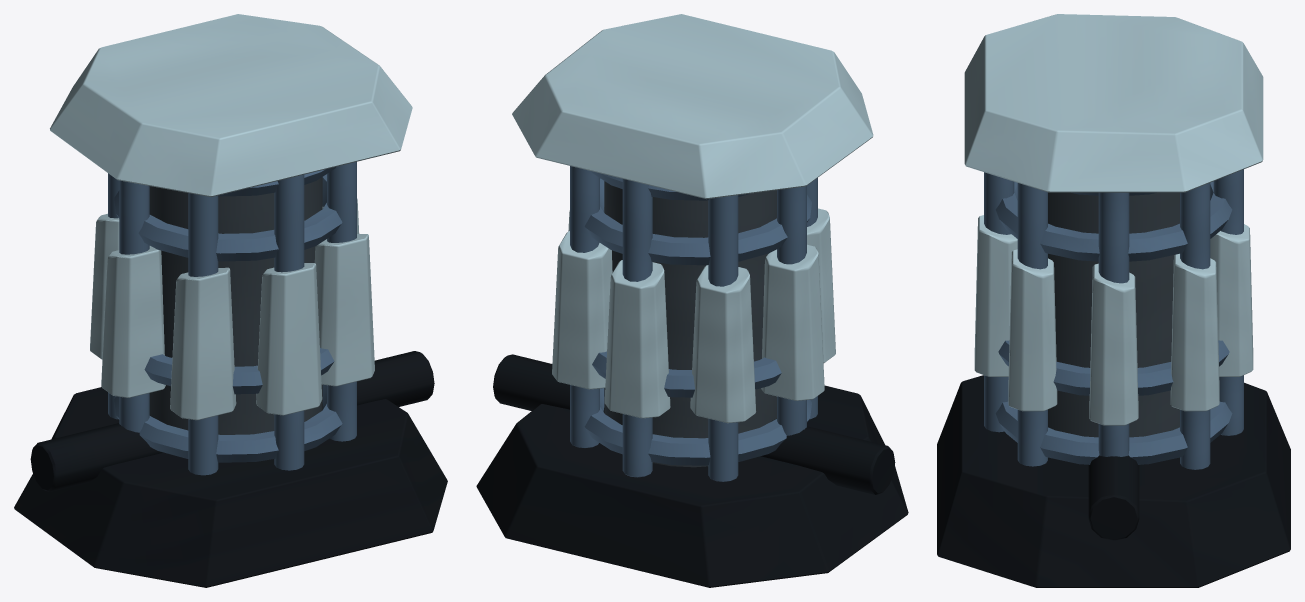
The model's file is Primary_Containment.fbx.
3 renders of one model, left to right at view 1: azimuth 30°, elevation 25°; view 2: azimuth 150°, elevation 25°; view 3: azimuth 270°, elevation 25°, orthographic.
Visible parts, largest first — view 1: Primary_Containment; view 2: Primary_Containment; view 3: Primary_Containment.
Boxes of the visible parts, box(x1,y1,x2,y2) form: Primary_Containment: box(14, 14, 447, 587); Primary_Containment: box(476, 14, 908, 587); Primary_Containment: box(937, 14, 1290, 587).
Bounding box in the file's own units: 3.8 × 4.04 × 3.02.
